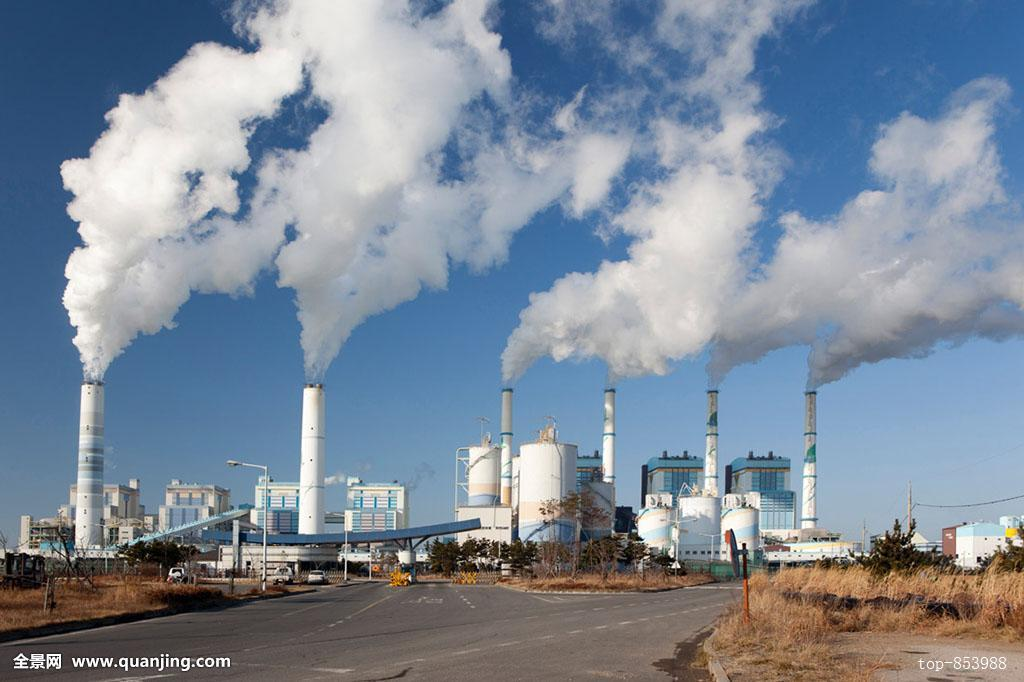dust: (29, 83, 233, 394), (281, 125, 423, 388), (590, 246, 694, 400), (793, 307, 951, 401), (484, 275, 585, 400), (701, 293, 799, 402)
